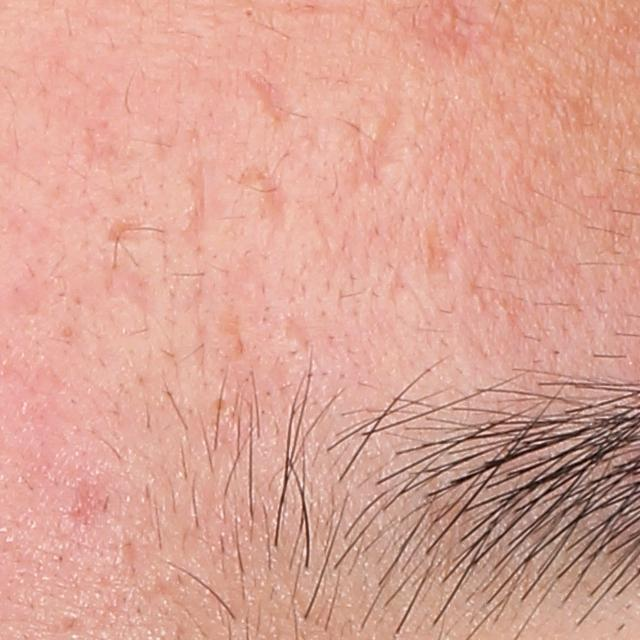atrophic_scar: (323, 63, 424, 209), (161, 129, 212, 236), (239, 159, 294, 236), (84, 114, 136, 180), (245, 68, 298, 131), (98, 266, 156, 319), (102, 217, 169, 247), (421, 229, 453, 280)
comedo: (241, 2, 257, 24), (60, 325, 75, 340)
